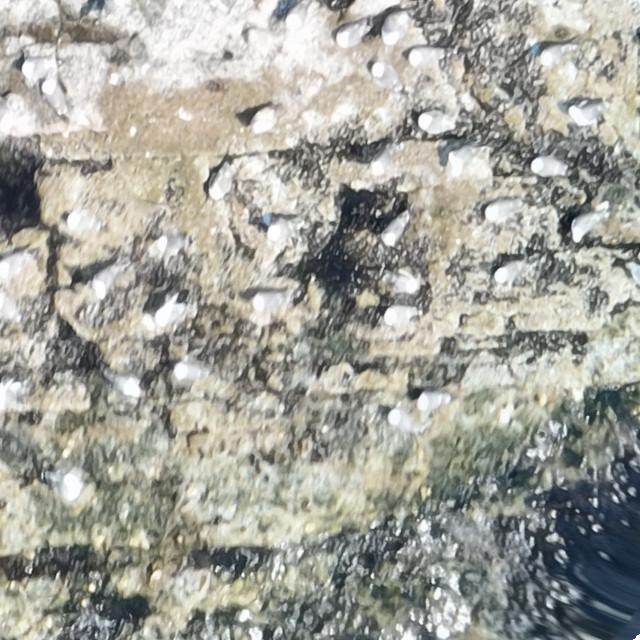umineko: (102, 368, 148, 397), (40, 81, 71, 122), (381, 11, 415, 47), (568, 213, 605, 246), (370, 59, 401, 96), (65, 212, 112, 236), (246, 107, 284, 135), (390, 405, 426, 434), (571, 101, 609, 128), (155, 297, 186, 330), (93, 267, 122, 301), (265, 215, 304, 240), (371, 146, 401, 178), (416, 107, 452, 133), (209, 160, 231, 202), (384, 212, 410, 247), (20, 57, 58, 80), (531, 156, 569, 178), (484, 200, 516, 225), (537, 46, 573, 68), (152, 233, 188, 254), (448, 146, 476, 173), (285, 4, 311, 32), (174, 362, 208, 382), (384, 306, 418, 326), (496, 261, 523, 286), (387, 274, 422, 292), (337, 22, 364, 45), (417, 392, 445, 412), (254, 292, 285, 309), (411, 47, 437, 62)
